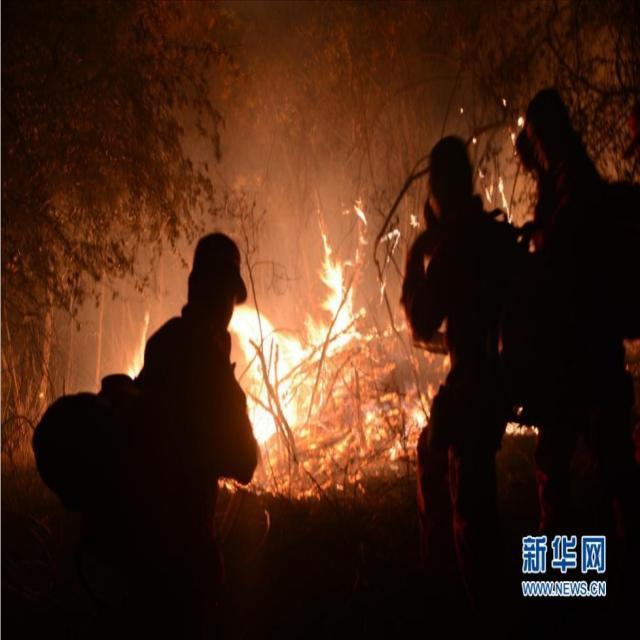Fire: (215, 197, 450, 504), (126, 308, 150, 382), (482, 174, 514, 226), (504, 420, 540, 438), (510, 115, 524, 148)
